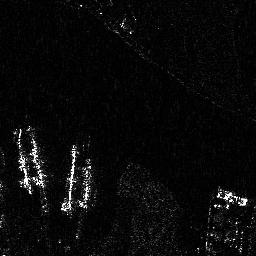ship: (217, 187, 248, 208)
